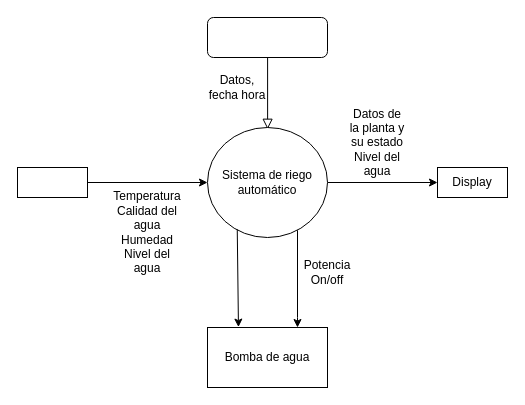
The diagram is 525 pixels wide and 405 high, and some of its shapes have lost their labels. The centre of each missing label's shape, as x and y in pixels:
"Sensores" goes at point 52,182.
"Usuario" goes at point 267,37.
